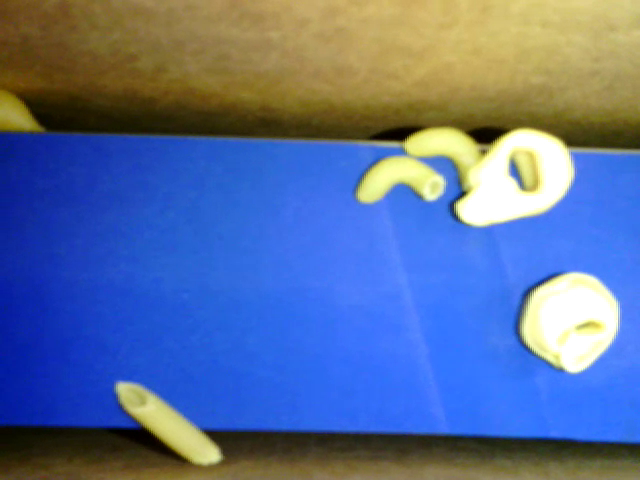elbow: (403, 126, 487, 191), (358, 149, 444, 210)
penne: (114, 380, 226, 466)
shell: (1, 90, 45, 134)
tortellini: (453, 125, 574, 226), (517, 268, 622, 373)
